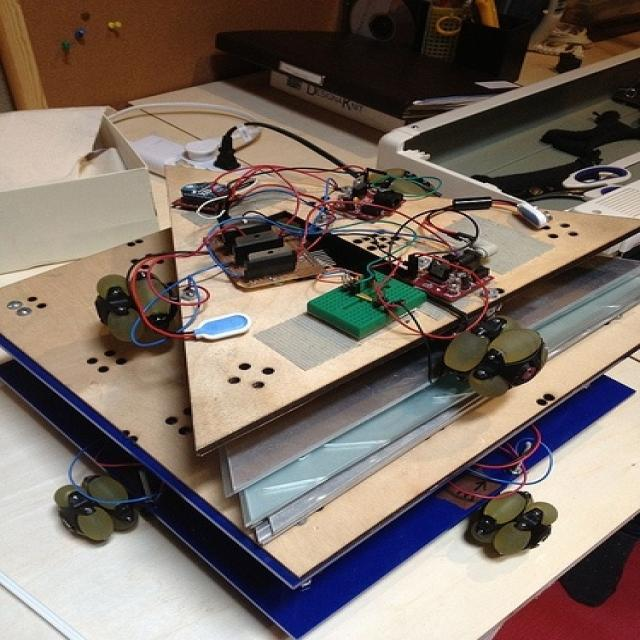E-waste: (24, 113, 620, 592)
